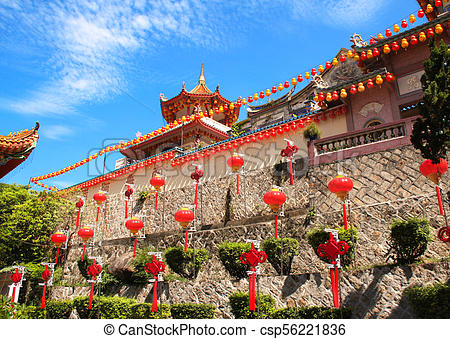Buddhist Temple: (56, 53, 419, 287)
